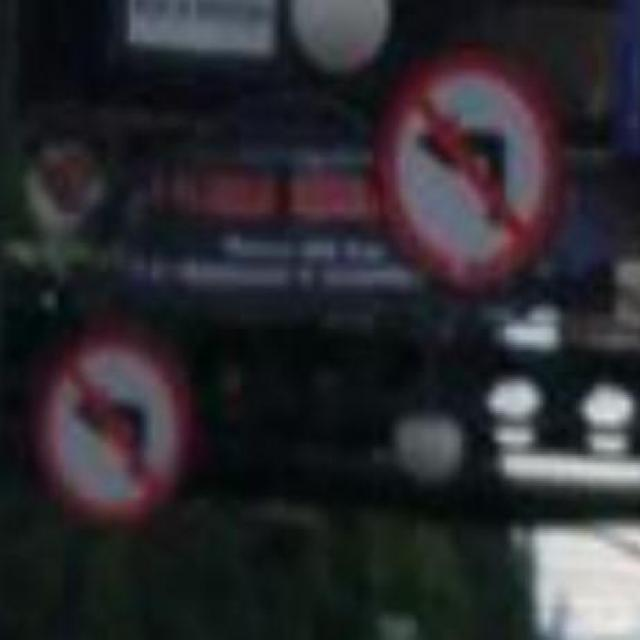traffic sign: (378, 59, 552, 277), (43, 342, 187, 521)
